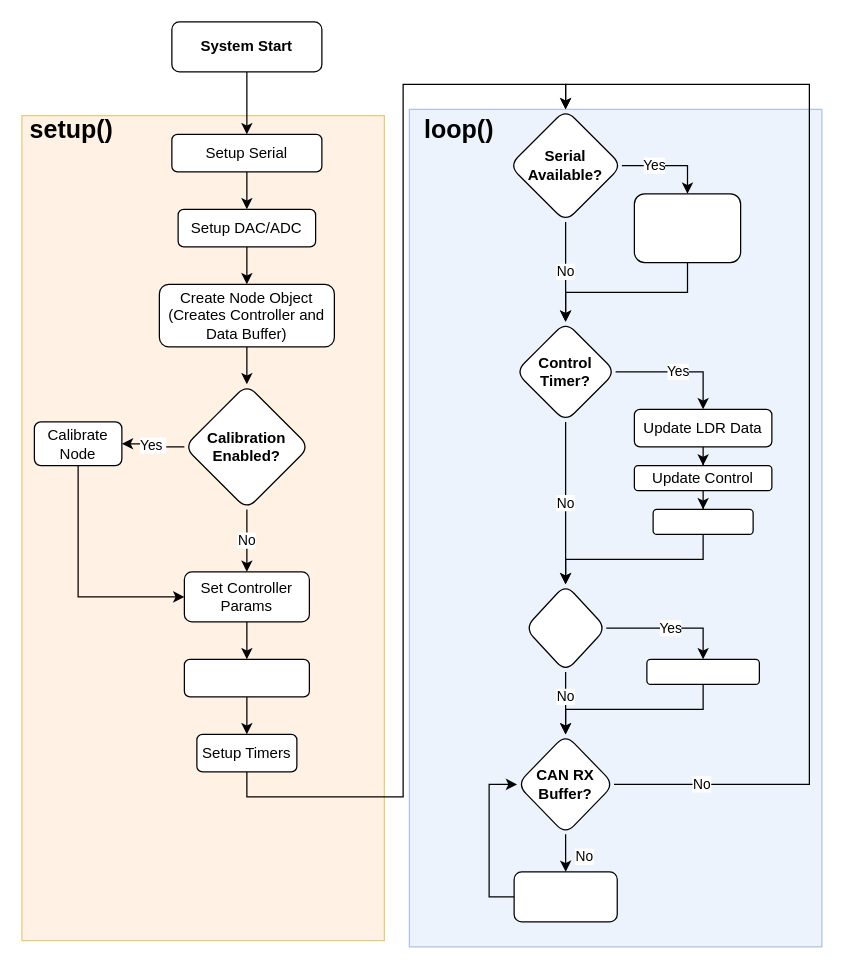
The diagram is 844 pixels wide and 969 high, and some of its shapes have lost their labels. The centre of each missing label's shape, as x and y in pixels:
CAN Timer?: the point at 565,627
Handle Serial Command: the point at 687,227
Recieve CAN MSG: the point at 565,896
Send CAN Msg: the point at 702,671
Setup CAN BUS: the point at 246,677
Update LED: the point at 702,521
